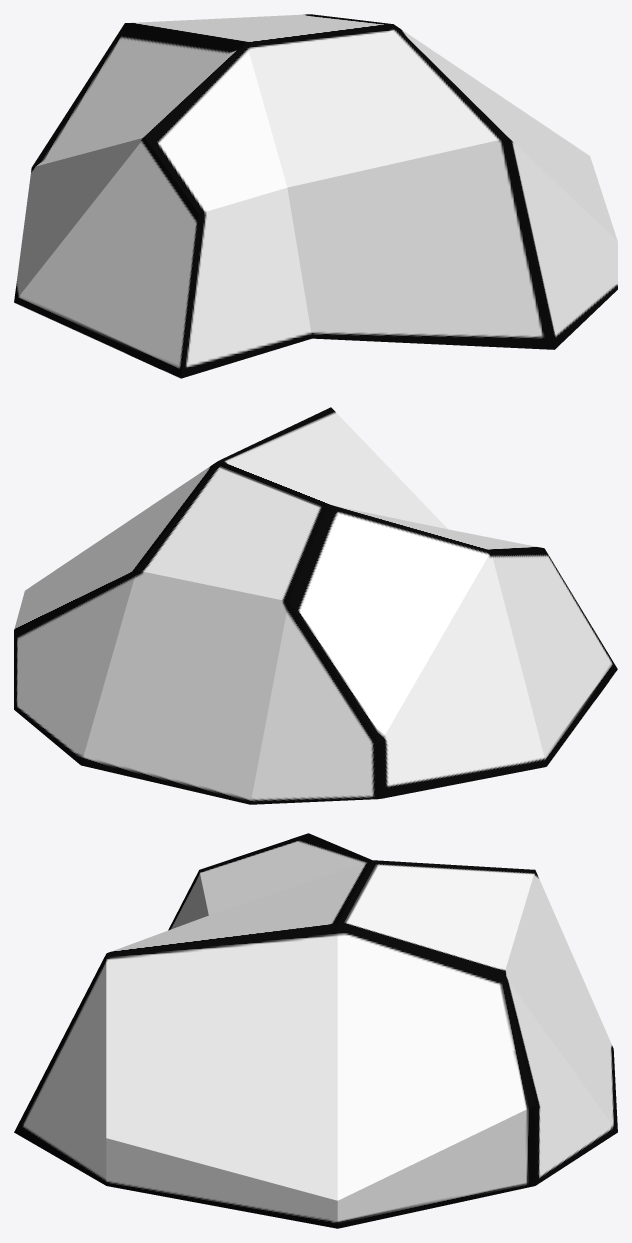
The model's file is TestRock.fbx.
The picture shows the model from 3 angles, top to bottom: view 1: azimuth 30°, elevation 25°; view 2: azimuth 150°, elevation 25°; view 3: azimuth 270°, elevation 25°; orthographic projection. The views are drawn at different scales.
Parts seen in each view (by area): view 1: Cube; view 2: Cube; view 3: Cube.
Part boxes in pixels (left/top/right/bottom): Cube: left=14, top=14, right=617, bottom=378; Cube: left=14, top=407, right=617, bottom=804; Cube: left=14, top=833, right=617, bottom=1228.
Bounding box in the file's own units: 650 × 233 × 611.
Materials: 1 (1 with a texture image).
